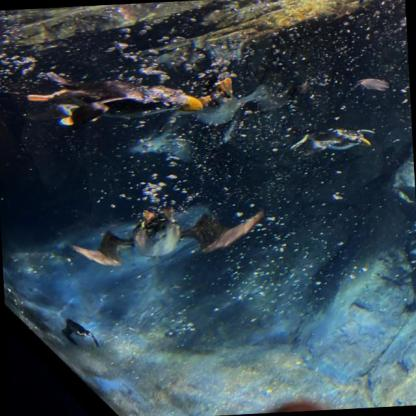puffin: (67, 200, 266, 271), (26, 63, 205, 131), (162, 71, 310, 128), (287, 124, 375, 155), (61, 318, 100, 350)
